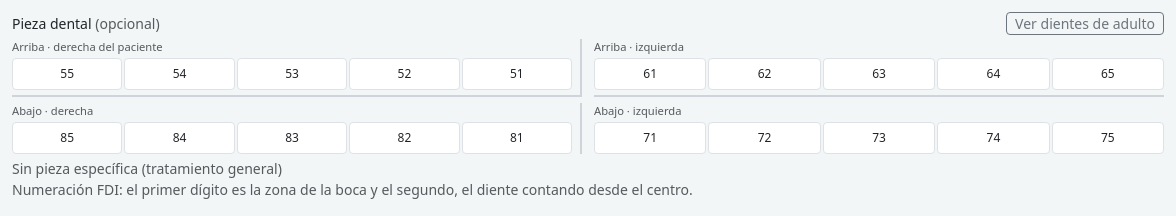
it: Odontograma › menor de 12 años: muestra primero los dientes de leche; se puede cambiar a los de adulto
The width and height of the screenshot is (1176, 216).
Expected: the button named "Pieza 54" is shown, [124,58,235,90]
Click the button "Ver dientes de adulto" at (1085, 24), box [1006,12,1164,35]
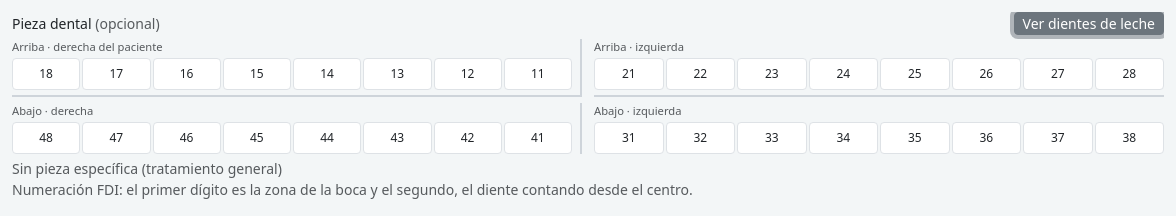
Expected: the button named "Pieza 16" is shown, [152,58,221,90]
